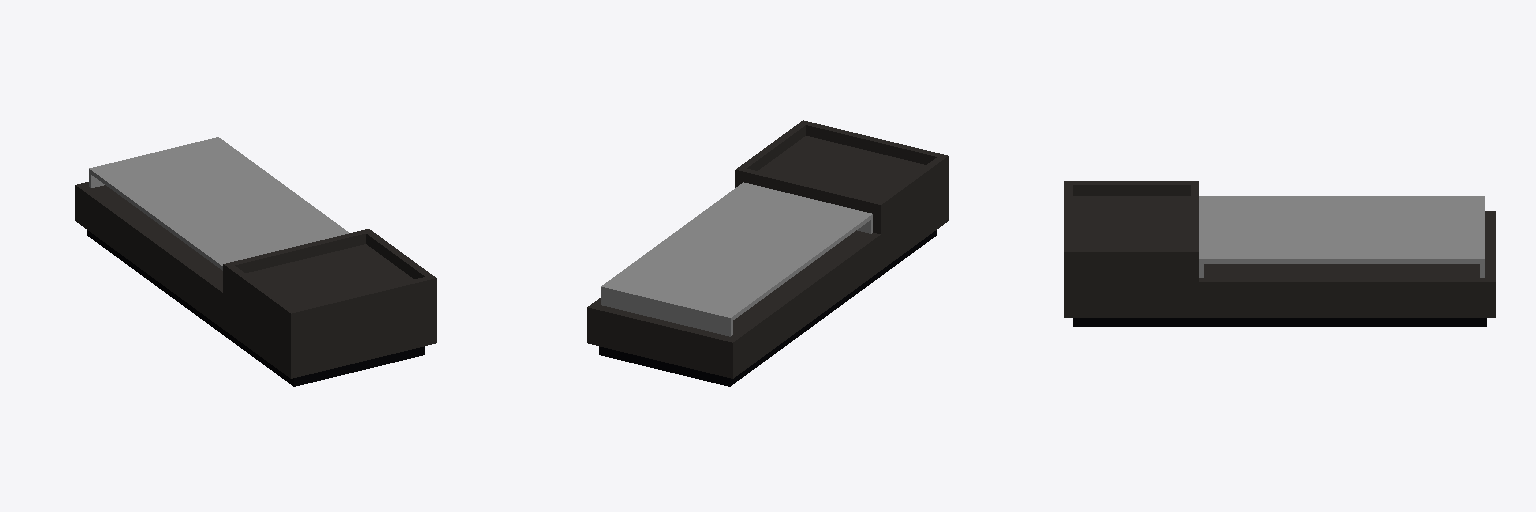
File: table.obj
The picture shows the model from 3 angles: view 1: azimuth 30°, elevation 25°; view 2: azimuth 150°, elevation 25°; view 3: azimuth 270°, elevation 25°; orthographic projection.
Parts seen in each view (by area): view 1: table_01, table_02, table_03, table_detal_01, table_detal_03, table_detal_00, table_detal_02; view 2: table_02, table_01, table_03, table_detal_03, table_detal_01, table_detal_00, table_detal_02; view 3: table_01, table_02, table_03, table_detal_00, table_detal_02, table_detal_01, table_detal_03.
Part boxes in pixels (x1,y1,x2,y2): table_01: (75, 182, 436, 386); table_02: (89, 137, 348, 270); table_03: (223, 244, 436, 342); table_detal_01: (295, 275, 436, 321); table_detal_03: (223, 230, 365, 277); table_detal_00: (228, 266, 297, 323); table_detal_02: (362, 229, 431, 278); table_02: (601, 182, 872, 336); table_01: (587, 185, 948, 386); table_03: (735, 136, 948, 233); table_detal_03: (743, 169, 884, 215); table_detal_01: (800, 120, 940, 164); table_detal_00: (878, 154, 948, 212); table_detal_02: (735, 123, 805, 181); table_01: (1064, 211, 1495, 326); table_02: (1199, 196, 1484, 277); table_03: (1064, 196, 1198, 281); table_detal_00: (1064, 181, 1190, 195); table_detal_02: (1073, 249, 1198, 262); table_detal_01: (1064, 185, 1072, 262); table_detal_03: (1191, 181, 1198, 248).
Bounding box in the file's own units: 0.8541 × 0.4379 × 2.19.